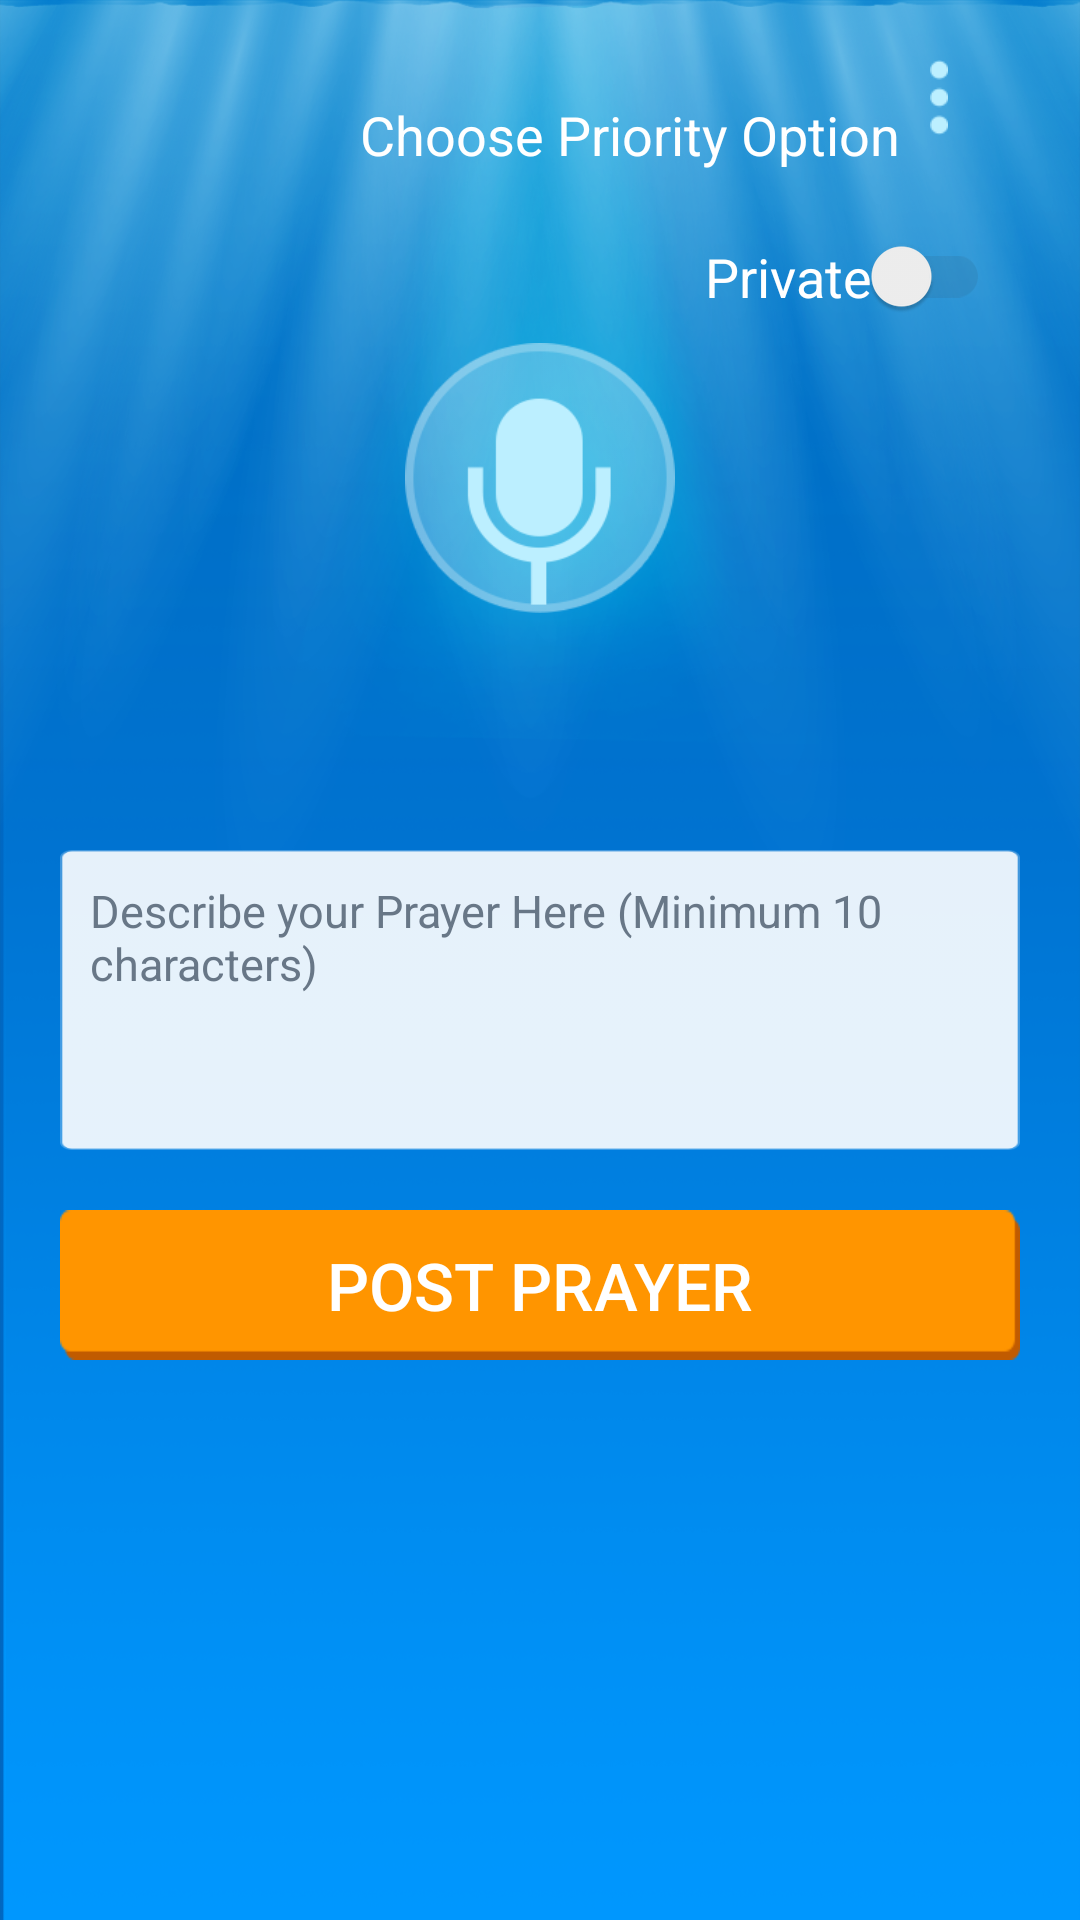

Icon click points for this 1080 × 1920 phone screenshot, format point (x, y):
mic: point (540, 478)
